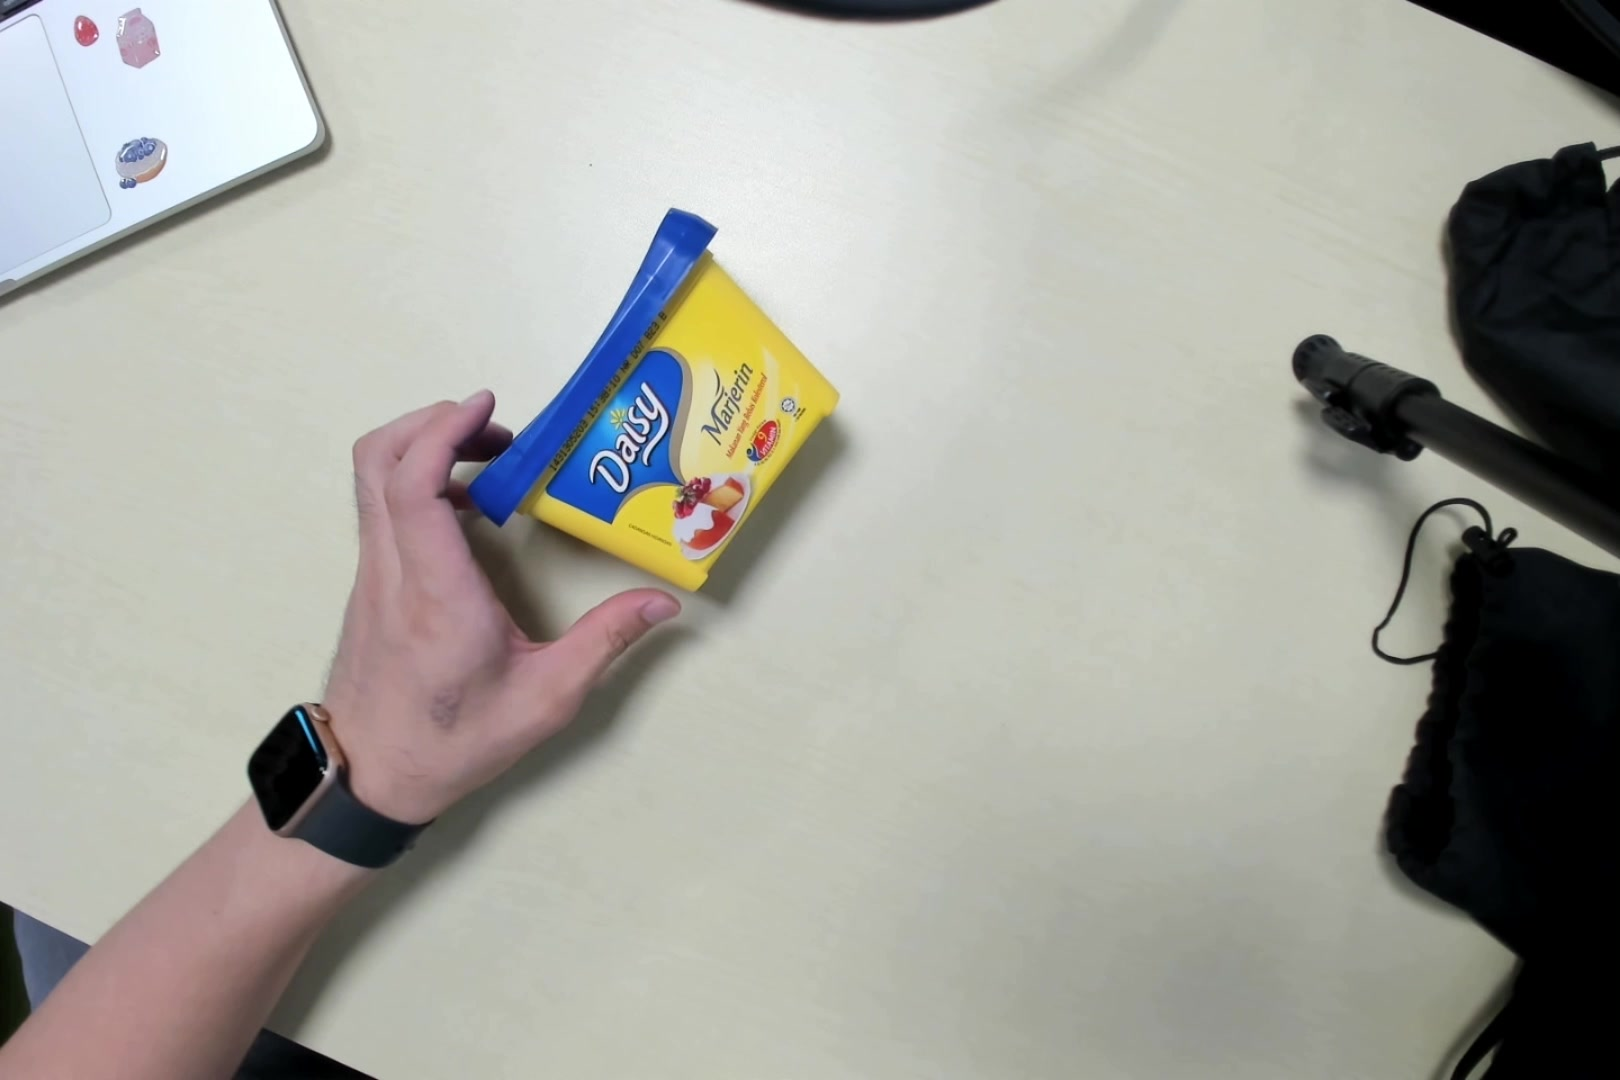OtherSpreads_400-499g_Halal_NonHealthy: (469, 206, 833, 595)
